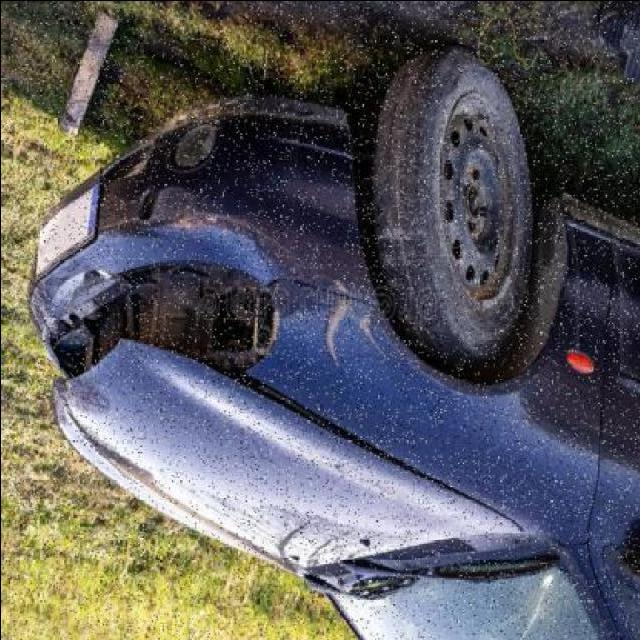fender-dent: (311, 210, 600, 491)
